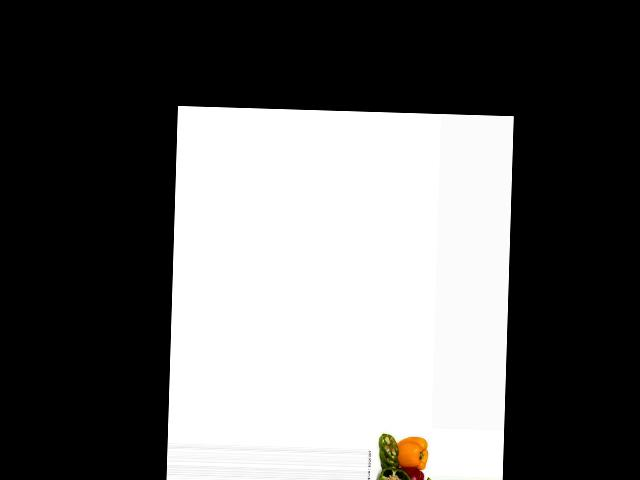bell_pepper: (375, 466, 413, 480)
